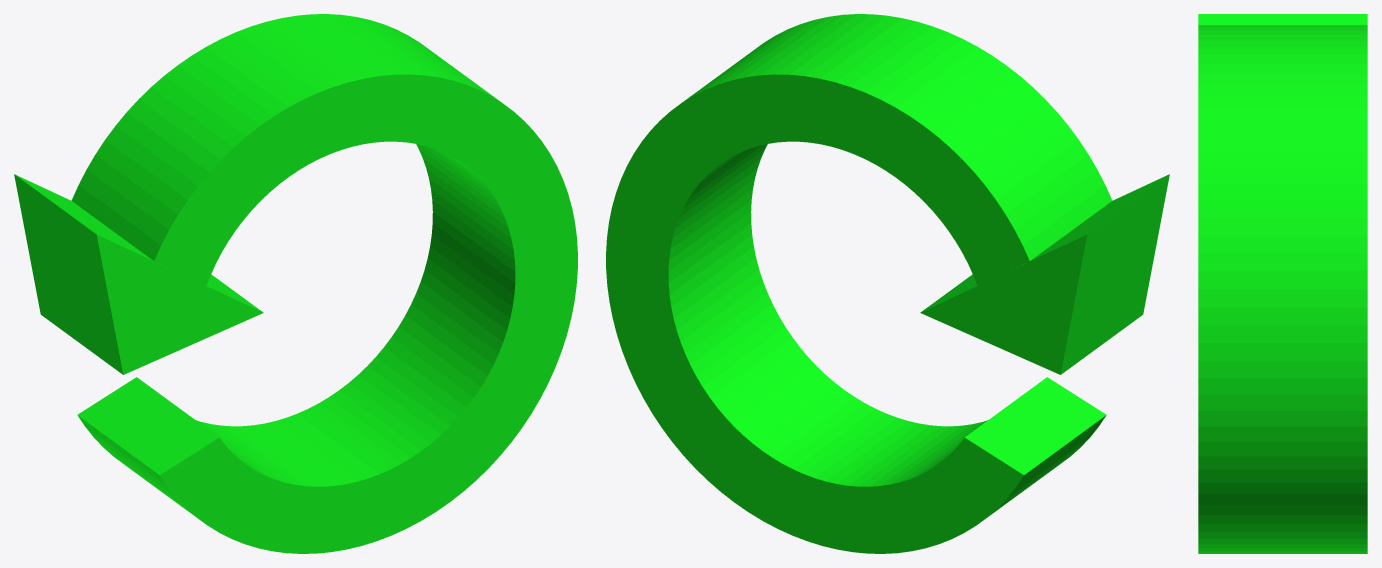
File: RestartButton.fbx
3 views of the same model, side by side, from view 1: azimuth 30°, elevation 25°; view 2: azimuth 150°, elevation 25°; view 3: azimuth 270°, elevation 25° (orthographic). The views are drawn at different scales.
Visible parts, largest first — view 1: RestartButton; view 2: RestartButton; view 3: RestartButton.
Boxes of the visible parts, x1,y1,x2,y2 form: RestartButton: (14, 14, 577, 553); RestartButton: (606, 14, 1169, 553); RestartButton: (1198, 14, 1367, 553).
Bounding box in the file's own units: 2.13 × 1.97 × 0.6333.
